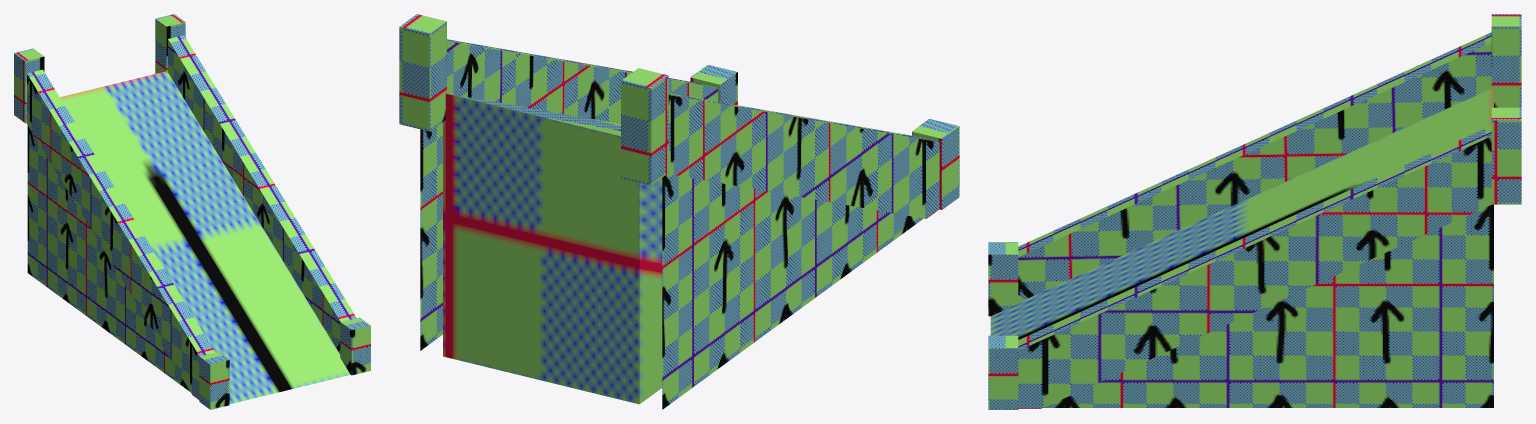
Rendered from stairs1.obj.
The picture shows the model from 3 angles, left to right: view 1: azimuth 30°, elevation 25°; view 2: azimuth 150°, elevation 25°; view 3: azimuth 270°, elevation 25°; orthographic projection. The views are drawn at different scales.
Visible parts, largest first — view 1: Cube.010, Cube.011; view 2: Cube.010, Cube.011; view 3: Cube.010, Cube.011.
Boxes of the visible parts, <box> form: Cube.010: <box>14,14,370,409</box>; Cube.011: <box>60,71,350,404</box>; Cube.010: <box>399,14,959,409</box>; Cube.011: <box>443,93,662,404</box>; Cube.010: <box>988,14,1521,409</box>; Cube.011: <box>990,88,1493,339</box>.
Size of the model in its own units: 10 by 12.7 by 21.2.
